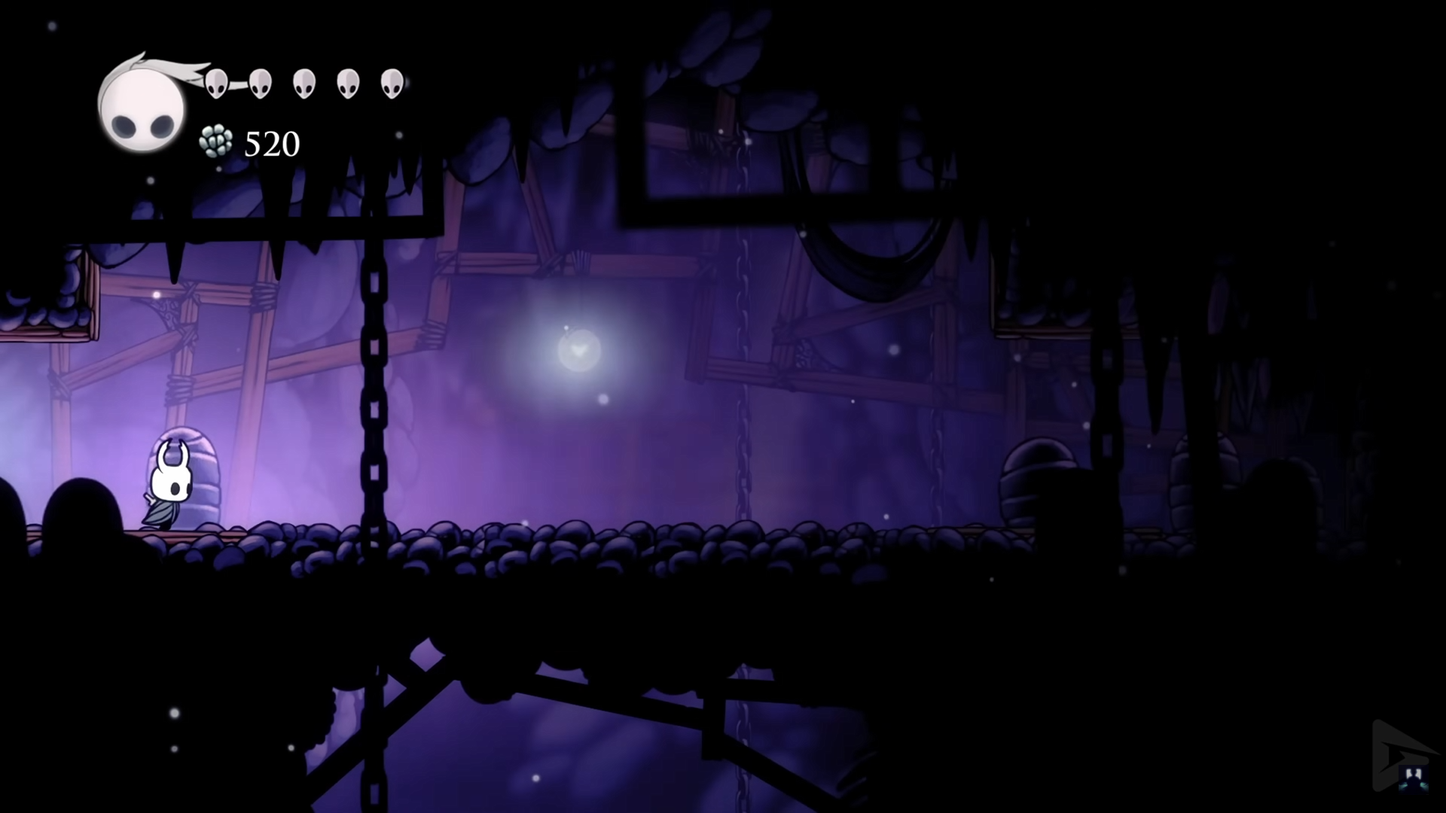HK: (141, 433, 199, 532)
